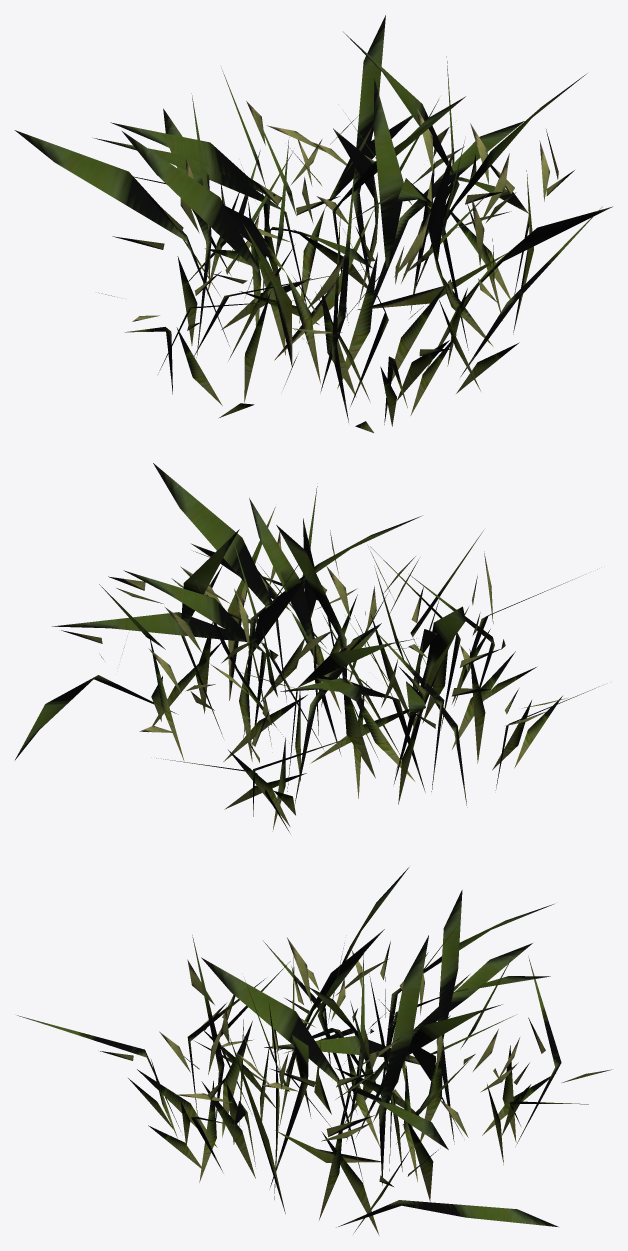
The model's file is grass_c_far.gltf.
3 views of the same model, one above another, from view 1: azimuth 30°, elevation 25°; view 2: azimuth 150°, elevation 25°; view 3: azimuth 270°, elevation 25° (orthographic). The views are drawn at different scales.
Visible parts, largest first — view 1: grass_c_far; view 2: grass_c_far; view 3: grass_c_far.
Part boxes in pixels (x1=…): grass_c_far: x1=14, y1=15, x2=612, y2=432; grass_c_far: x1=15, y1=463, x2=599, y2=833; grass_c_far: x1=17, y1=867, x2=611, y2=1235.
Bounding box in the file's own units: 1.29 × 0.6438 × 1.41.
1 material, 1 textured.
